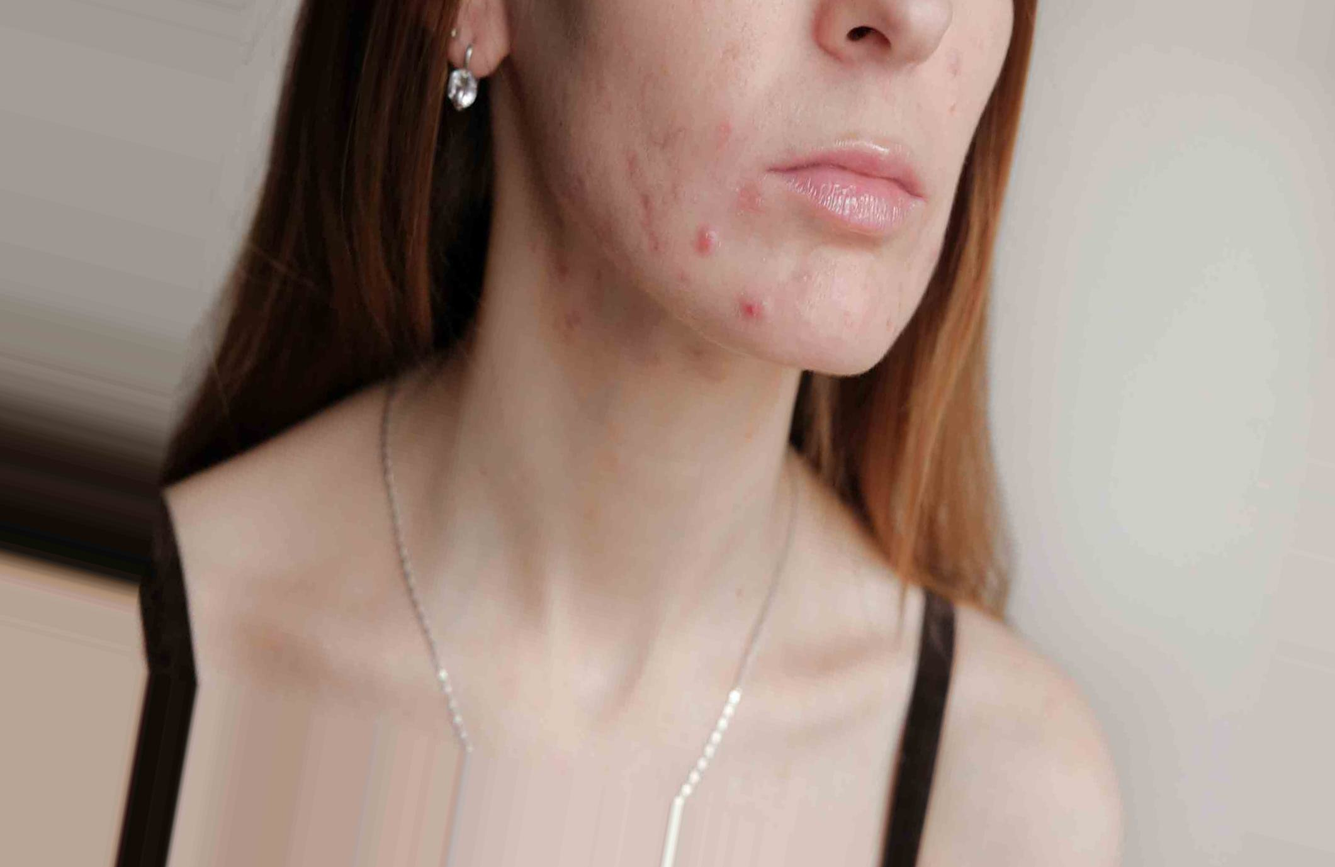Acne: (509, 61, 789, 369)
